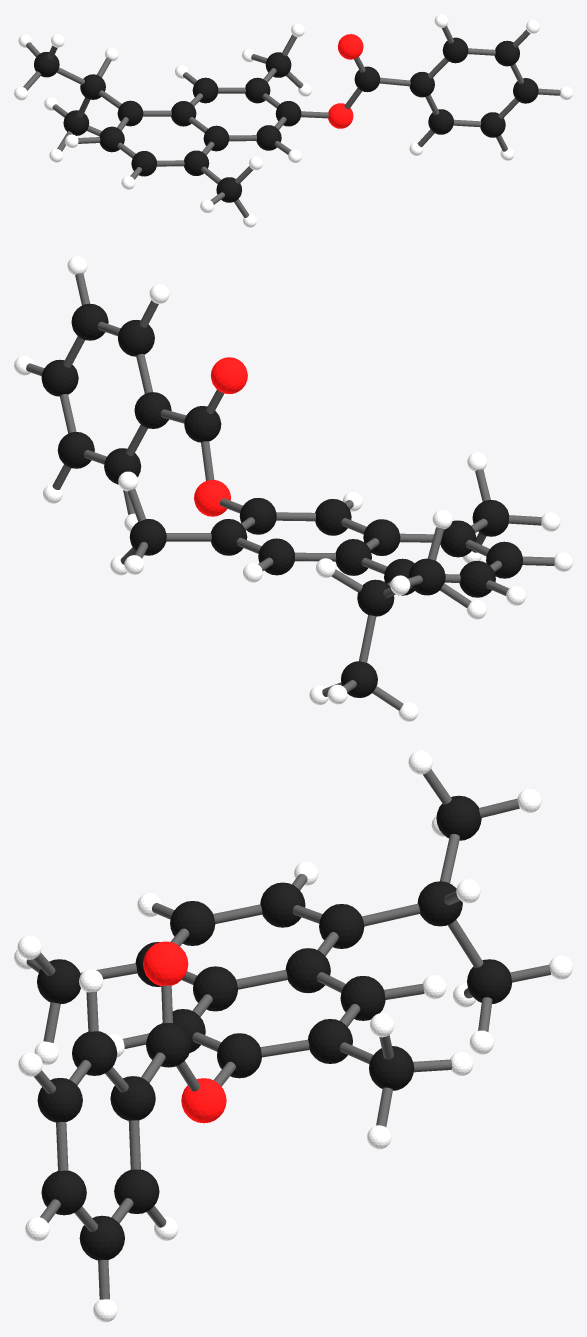
File: molecule.glb
3 views of the same model, one above another, from view 1: azimuth 30°, elevation 25°; view 2: azimuth 150°, elevation 25°; view 3: azimuth 270°, elevation 25° (orthographic). The views are drawn at different scales.
Visible parts, largest first — view 1: geometry_17, geometry_15, geometry_18, geometry_20, geometry_22, geometry_16, geometry_21, geometry_19, geometry_23, geometry_1, geometry_13, geometry_3 (+12 smaller); view 2: geometry_17, geometry_16, geometry_21, geometry_23, geometry_8, geometry_15, geometry_22, geometry_13, geometry_20, geometry_1, geometry_18, geometry_3 (+11 smaller); view 3: geometry_17, geometry_15, geometry_7, geometry_6, geometry_8, geometry_16, geometry_18, geometry_1, geometry_3, geometry_21, geometry_19, geometry_14 (+11 smaller).
Boxes of the visible parts, x1=… form: geometry_17: x1=337, y1=34, x2=363, y2=59; geometry_15: x1=328, y1=103, x2=353, y2=128; geometry_18: x1=409, y1=71, x2=434, y2=97; geometry_20: x1=480, y1=112, x2=505, y2=137; geometry_22: x1=494, y1=40, x2=519, y2=66; geometry_16: x1=354, y1=66, x2=380, y2=92; geometry_21: x1=513, y1=78, x2=538, y2=103; geometry_19: x1=428, y1=109, x2=453, y2=134; geometry_23: x1=442, y1=37, x2=468, y2=63; geometry_1: x1=245, y1=77, x2=270, y2=103; geometry_13: x1=256, y1=125, x2=281, y2=150; geometry_3: x1=171, y1=101, x2=196, y2=126; geometry_17: x1=210, y1=357, x2=247, y2=393; geometry_16: x1=184, y1=406, x2=221, y2=442; geometry_21: x1=41, y1=359, x2=78, y2=396; geometry_23: x1=118, y1=320, x2=154, y2=356; geometry_8: x1=459, y1=561, x2=495, y2=597; geometry_15: x1=194, y1=479, x2=230, y2=516; geometry_22: x1=71, y1=303, x2=108, y2=340; geometry_13: x1=315, y1=499, x2=351, y2=535; geometry_20: x1=57, y1=432, x2=94, y2=468; geometry_1: x1=210, y1=519, x2=247, y2=555; geometry_18: x1=134, y1=392, x2=171, y2=428; geometry_3: x1=335, y1=539, x2=371, y2=575; geometry_17: x1=143, y1=941, x2=188, y2=985; geometry_15: x1=181, y1=1078, x2=226, y2=1123; geometry_7: x1=436, y1=795, x2=481, y2=840; geometry_6: x1=467, y1=959, x2=512, y2=1003; geometry_8: x1=260, y1=882, x2=305, y2=927; geometry_16: x1=146, y1=1023, x2=191, y2=1067; geometry_18: x1=110, y1=1076, x2=155, y2=1120; geometry_1: x1=308, y1=1019, x2=352, y2=1063; geometry_3: x1=285, y1=948, x2=330, y2=993; geometry_21: x1=41, y1=1170, x2=86, y2=1215; geometry_19: x1=114, y1=1169, x2=159, y2=1213; geometry_14: x1=217, y1=1033, x2=261, y2=1078.
Size of the model in its own units: 0.257 by 0.092 by 0.16.
